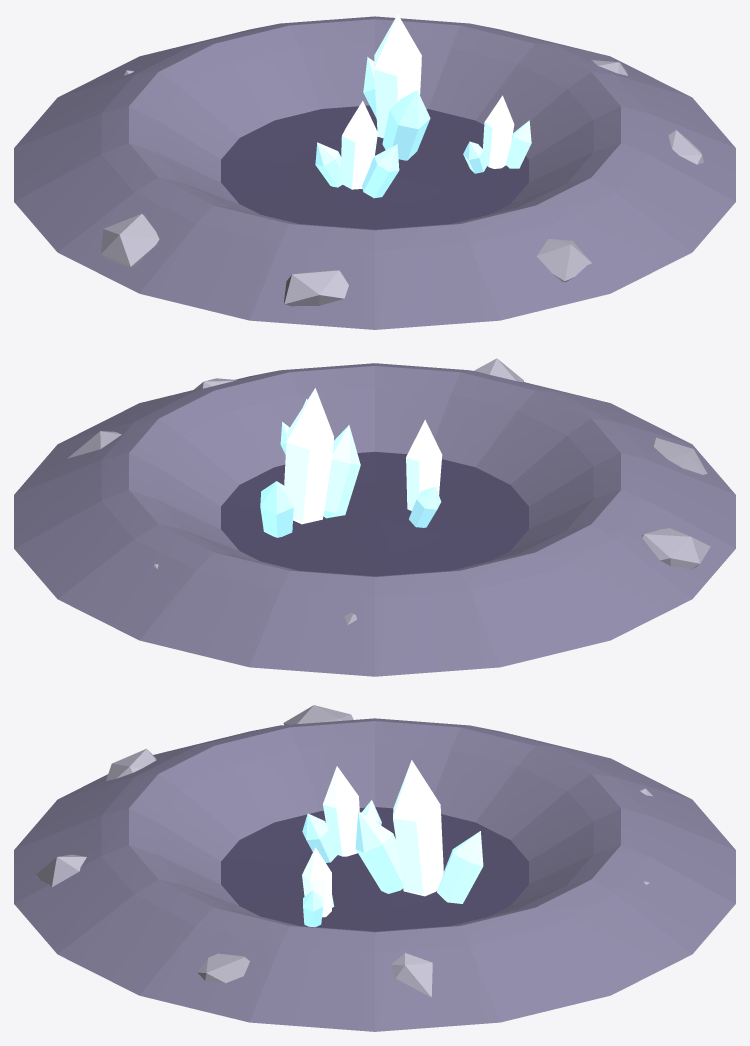
File: crater_hielo.glb
The picture shows the model from 3 angles, top to bottom: view 1: azimuth 30°, elevation 25°; view 2: azimuth 150°, elevation 25°; view 3: azimuth 270°, elevation 25°; orthographic projection.
Visible parts, largest first — view 1: Regolito, Fondo, Malla_hielo, Malla_roca, Malla_hielo_osc4; view 2: Regolito, Fondo, Malla_hielo, Malla_hielo_osc4, Malla_roca; view 3: Regolito, Fondo, Malla_hielo, Malla_hielo_osc4, Malla_roca.
Part boxes in pixels (left/top/right/bottom): Regolito: left=14, top=16, right=735, bottom=329; Fondo: left=221, top=105, right=528, bottom=229; Malla_hielo: left=340, top=14, right=514, bottom=189; Malla_roca: left=101, top=20, right=703, bottom=306; Malla_hielo_osc4: left=315, top=57, right=531, bottom=198; Regolito: left=14, top=363, right=735, bottom=676; Fondo: left=221, top=452, right=528, bottom=576; Malla_hielo: left=284, top=388, right=442, bottom=524; Malla_hielo_osc4: left=260, top=422, right=441, bottom=537; Malla_roca: left=67, top=358, right=710, bottom=624; Regolito: left=14, top=718, right=735, bottom=1031; Fondo: left=221, top=807, right=528, bottom=931; Malla_hielo: left=302, top=760, right=443, bottom=917; Malla_hielo_osc4: left=302, top=800, right=483, bottom=927; Malla_roca: left=36, top=705, right=652, bottom=997.
Bounding box in the file's own units: 6.6 × 1.49 × 6.5.
